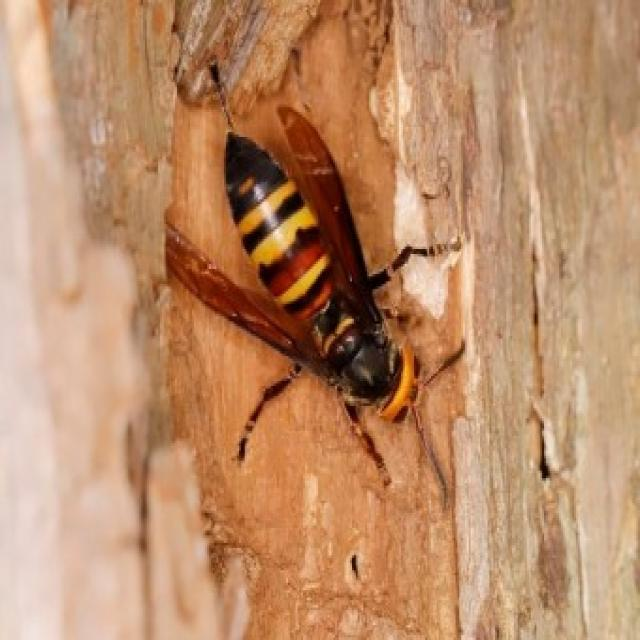Wasp: (199, 128, 434, 476)
